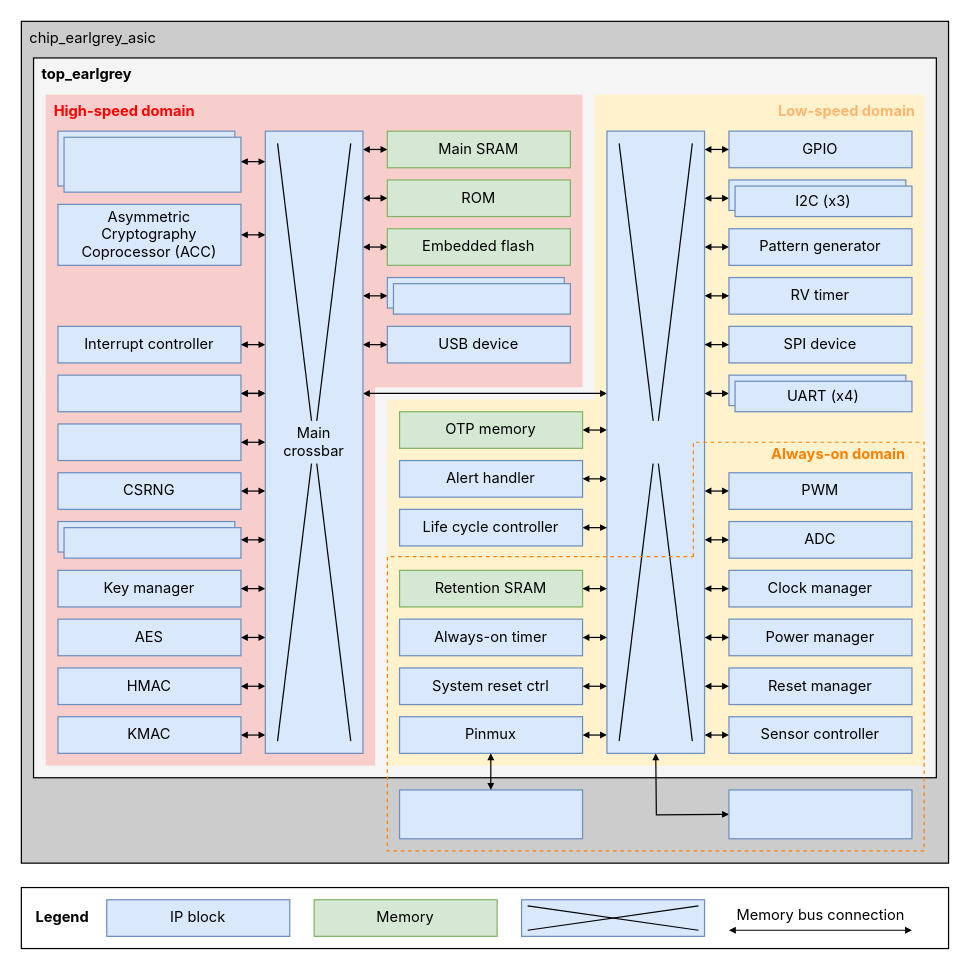
Image size: 970x970. Some labels were removed from this diagram. The shapes that lost their labels are listed below. From the top down, each one's centre as x and y in pixels, then its label:
point (152, 164): Ibex RISC-V core (RV32IMCB) (optional DCLS)
point (481, 298): SPI host (x2)
point (149, 393): RISC-V Debug Module
point (149, 442): Entropy source
point (655, 441): Peripheral crossbar
point (152, 542): EDN (x2)
point (490, 814): Padring
point (820, 814): Analog Sensor Top (AST)
point (612, 917): Crossbar
